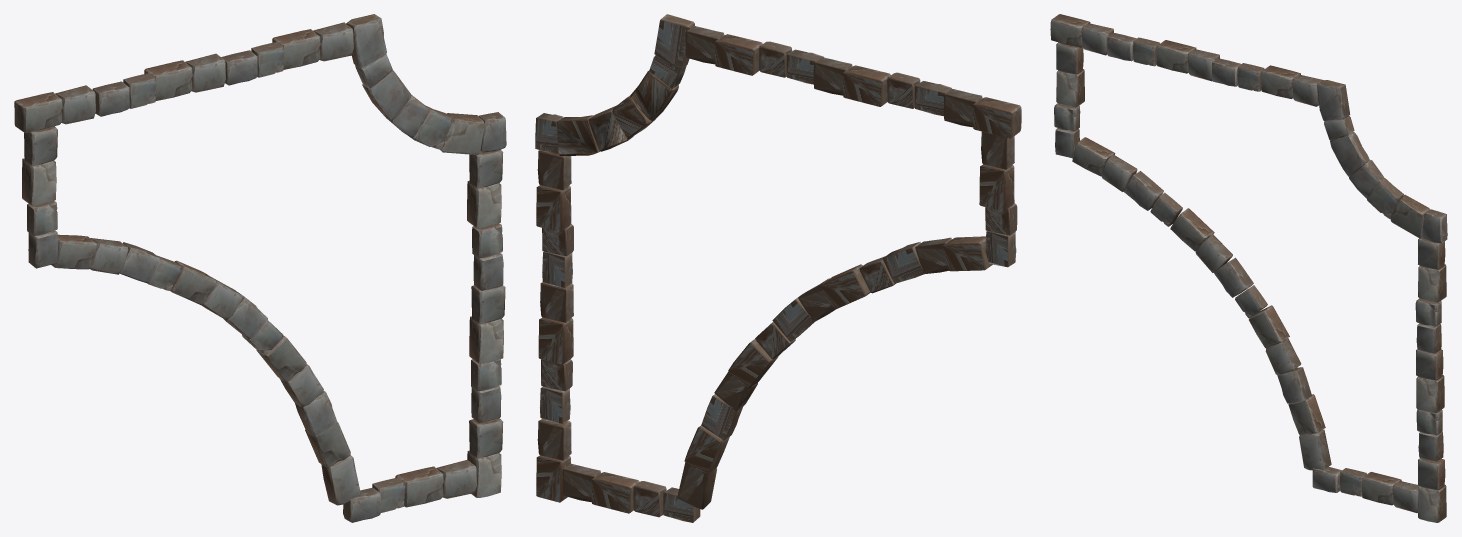
Rendered from Dn_HLLvl2_FloorTiles_B.fbx.
The picture shows the model from 3 angles, left to right: view 1: azimuth 30°, elevation 25°; view 2: azimuth 150°, elevation 25°; view 3: azimuth 330°, elevation 25°; orthographic projection. The views are drawn at different scales.
Parts seen in each view (by area): view 1: Dn_HLLvl2_FloorTiles_B; view 2: Dn_HLLvl2_FloorTiles_B; view 3: Dn_HLLvl2_FloorTiles_B.
Part boxes in pixels (box(x1,y1,x2,y2)): Dn_HLLvl2_FloorTiles_B: box(14, 14, 506, 522); Dn_HLLvl2_FloorTiles_B: box(535, 14, 1021, 522); Dn_HLLvl2_FloorTiles_B: box(1050, 14, 1447, 522).
Bounding box in the file's own units: 2375 × 2382 × 132.
